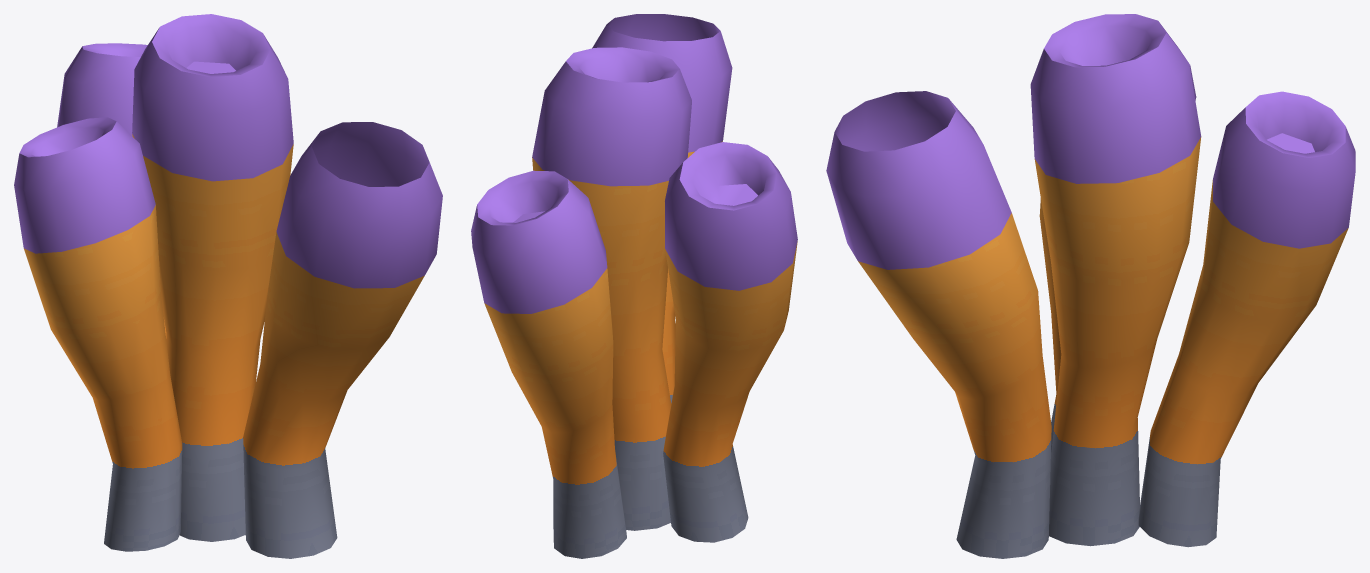
The model's file is D_CoralReef.075.glb.
3 views of the same model, side by side, from view 1: azimuth 30°, elevation 25°; view 2: azimuth 150°, elevation 25°; view 3: azimuth 270°, elevation 25° (orthographic). The views are drawn at different scales.
Visible parts, largest first — view 1: D_CoralReef.075; view 2: D_CoralReef.075; view 3: D_CoralReef.075.
Part boxes in pixels (x1=…): D_CoralReef.075: x1=14, y1=14, x2=442, y2=558; D_CoralReef.075: x1=471, y1=14, x2=797, y2=558; D_CoralReef.075: x1=826, y1=14, x2=1355, y2=558.
Size of the model in its own units: 0.144 by 0.2148 by 0.2055.
Materials: 1 (1 with a texture image).
